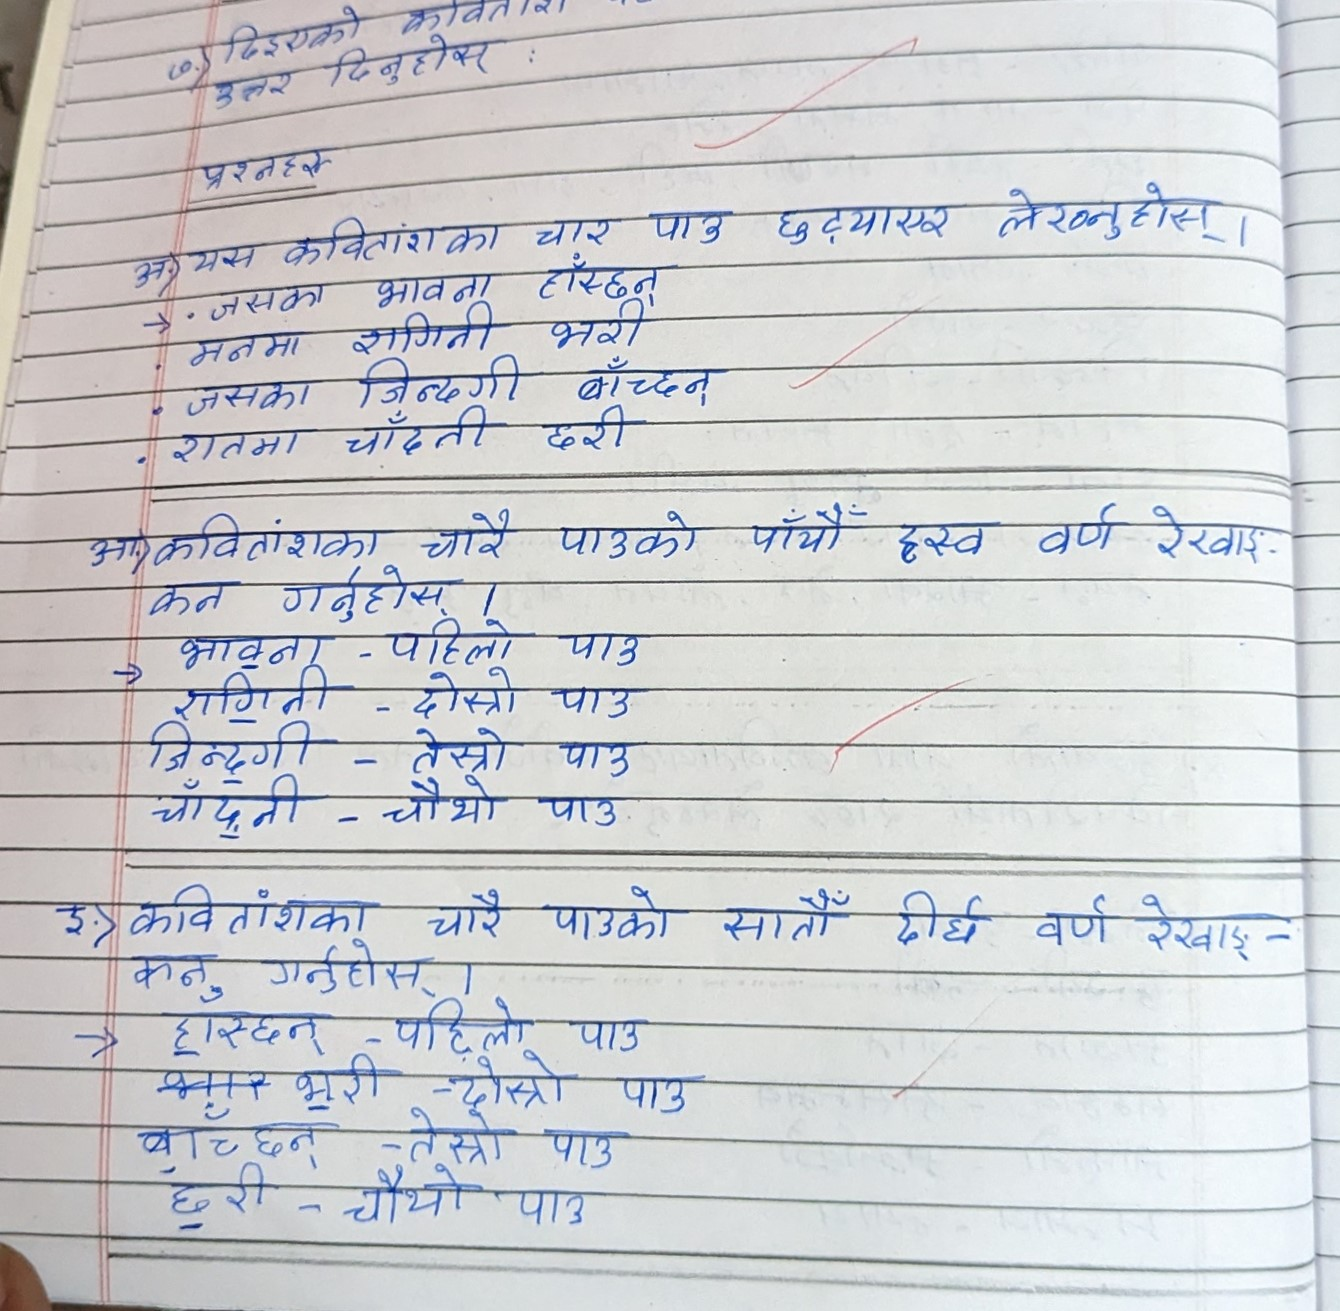text: (985, 176, 1233, 246), (120, 876, 383, 939), (124, 1105, 325, 1166), (276, 212, 503, 265), (152, 511, 381, 563), (766, 188, 959, 245), (138, 718, 315, 778), (1132, 888, 1256, 969), (156, 773, 309, 838), (713, 881, 861, 947), (277, 565, 467, 616), (164, 668, 335, 720), (261, 940, 432, 992), (554, 501, 699, 561), (383, 994, 532, 1050), (337, 1165, 472, 1227), (351, 357, 530, 403), (343, 406, 492, 461), (1147, 503, 1268, 569), (163, 1004, 328, 1052), (351, 303, 504, 353), (546, 880, 676, 938), (381, 773, 512, 830), (447, 1050, 569, 1111), (399, 666, 526, 722), (743, 497, 857, 558), (572, 354, 719, 401), (379, 616, 524, 662), (1025, 882, 1117, 954), (402, 1105, 512, 1165), (397, 1, 573, 38), (227, 10, 371, 54), (562, 998, 662, 1061), (892, 510, 995, 571), (890, 886, 989, 948), (193, 146, 334, 190), (331, 47, 506, 82), (414, 507, 520, 563), (536, 253, 671, 297), (171, 631, 331, 668), (1037, 497, 1123, 564), (401, 725, 519, 773), (164, 1166, 271, 1219), (609, 1058, 708, 1113), (183, 378, 321, 418), (295, 1054, 391, 1109), (420, 885, 512, 942), (544, 671, 652, 719), (171, 427, 309, 465), (208, 279, 331, 319), (373, 262, 495, 303), (542, 1117, 628, 1173), (550, 301, 648, 351), (540, 401, 628, 450), (189, 328, 304, 365), (513, 1173, 594, 1225), (554, 623, 651, 664), (542, 786, 628, 828), (557, 732, 638, 777), (146, 577, 231, 619), (531, 210, 616, 251), (125, 950, 209, 990), (645, 205, 726, 246), (77, 521, 138, 570), (210, 72, 297, 104), (50, 885, 98, 942), (151, 37, 213, 80), (193, 240, 267, 274), (122, 246, 174, 289)
